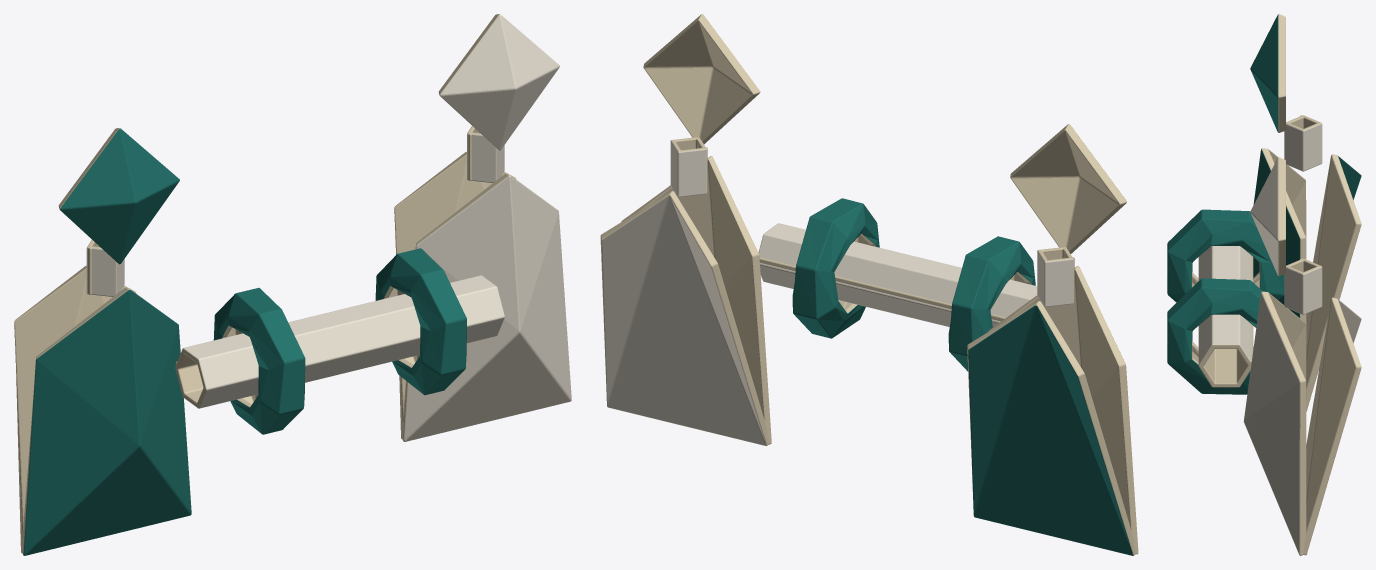
File: achievement-first-share.glb
3 views of the same model, side by side, from view 1: azimuth 30°, elevation 25°; view 2: azimuth 150°, elevation 25°; view 3: azimuth 270°, elevation 25° (orthographic). The views are drawn at different scales.
Visible parts, largest first — view 1: achievement-first-share; view 2: achievement-first-share; view 3: achievement-first-share.
Part boxes in pixels (x1,y1,x2,y2): achievement-first-share: [14, 14, 571, 555]; achievement-first-share: [600, 14, 1138, 555]; achievement-first-share: [1167, 14, 1361, 555].
Bounding box in the file's own units: 1.36 × 1.03 × 0.477.
